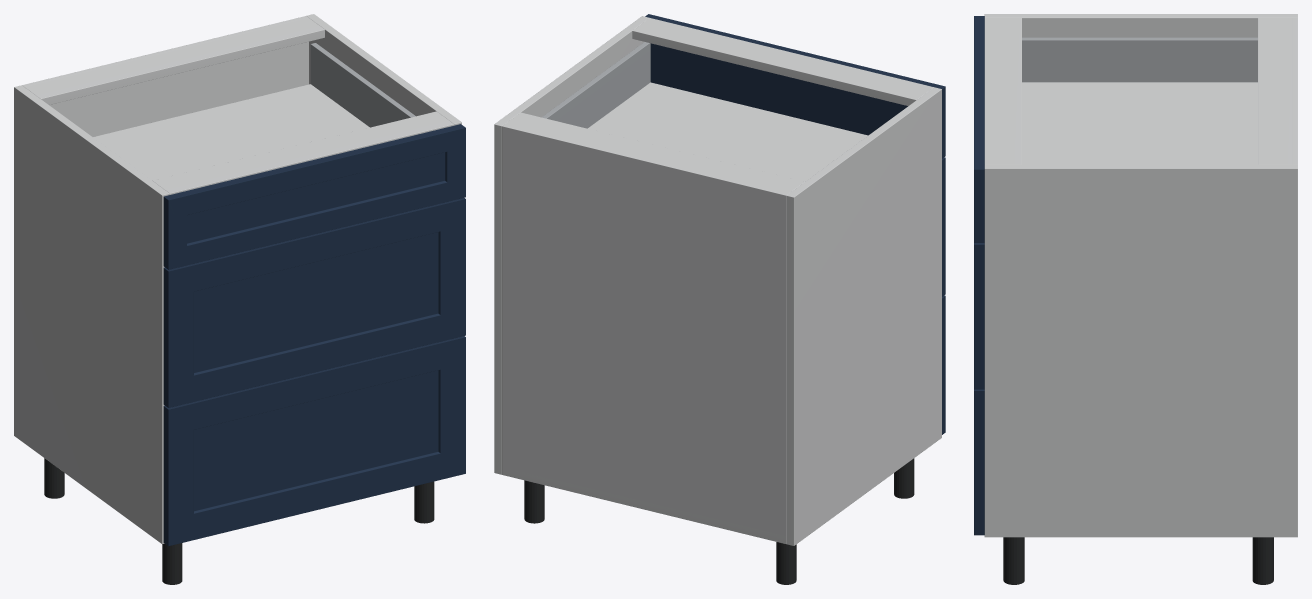
Rendered from oppein-pb-bss-3db27.glb.
The picture shows the model from 3 angles, left to right: view 1: azimuth 30°, elevation 25°; view 2: azimuth 150°, elevation 25°; view 3: azimuth 270°, elevation 25°; orthographic projection. The views are drawn at different scales.
Visible parts, largest first — view 1: Cabinet side, Drawer front, Drawer front.001, Drawer front.002, Drawer floor.002, Cabinet back, Top support rail, Top support rail.001, Drawer side.005, Cabinet side.001, Adjustable foot.001, Adjustable foot.003 (+1 smaller); view 2: Cabinet back, Cabinet side, Drawer floor.002, Drawer front.002, Top support rail.001, Cabinet side.001, Top support rail, Drawer side.005, Cabinet bottom, Adjustable foot, Adjustable foot.002, Adjustable foot.001; view 3: Cabinet side.001, Drawer floor.002, Drawer side.004, Cabinet side, Top support rail.001, Top support rail, Drawer front.002, Drawer front, Drawer front.001, Adjustable foot.003, Adjustable foot.002, Cabinet back.
Boxes of the visible parts, x1,y1,x2,y2 form: Cabinet side: (14, 85, 169, 544); Drawer front: (163, 336, 465, 546); Drawer front.001: (163, 198, 465, 407); Drawer front.002: (163, 124, 465, 269); Drawer floor.002: (93, 84, 369, 180); Cabinet back: (22, 16, 308, 136); Top support rail: (25, 18, 324, 104); Top support rail.001: (152, 111, 454, 194); Drawer side.005: (310, 43, 415, 127); Cabinet side.001: (306, 14, 461, 125); Adjustable foot.001: (162, 543, 182, 584); Adjustable foot.003: (414, 481, 434, 523); Cabinet back: (502, 124, 788, 543); Cabinet side: (786, 87, 941, 545); Drawer floor.002: (588, 82, 867, 181); Drawer front.002: (645, 14, 945, 158); Top support rail.001: (632, 18, 933, 105); Cabinet side.001: (494, 16, 649, 474); Top support rail: (505, 112, 804, 193); Drawer side.005: (541, 42, 650, 128); Cabinet bottom: (502, 469, 786, 543); Adjustable foot: (776, 542, 796, 584); Adjustable foot.002: (524, 480, 544, 523); Adjustable foot.001: (894, 458, 914, 498); Cabinet side.001: (984, 164, 1297, 537); Drawer floor.002: (1022, 82, 1257, 164); Drawer side.004: (1022, 37, 1257, 82); Cabinet side: (984, 14, 1297, 37); Top support rail.001: (984, 18, 1021, 164); Top support rail: (1258, 18, 1291, 164); Drawer front.002: (974, 16, 984, 242); Drawer front: (974, 389, 984, 535); Drawer front.001: (974, 243, 984, 389); Adjustable foot.003: (1003, 537, 1024, 584); Adjustable foot.002: (1252, 537, 1273, 584); Cabinet back: (1292, 18, 1297, 164).
Size of the model in its own units: 0.6858 by 0.8763 by 0.6064.
